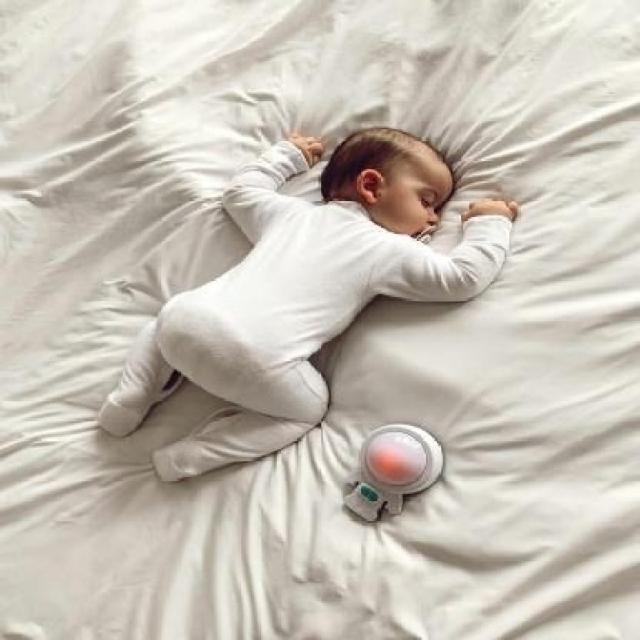baby: (100, 124, 514, 482)
